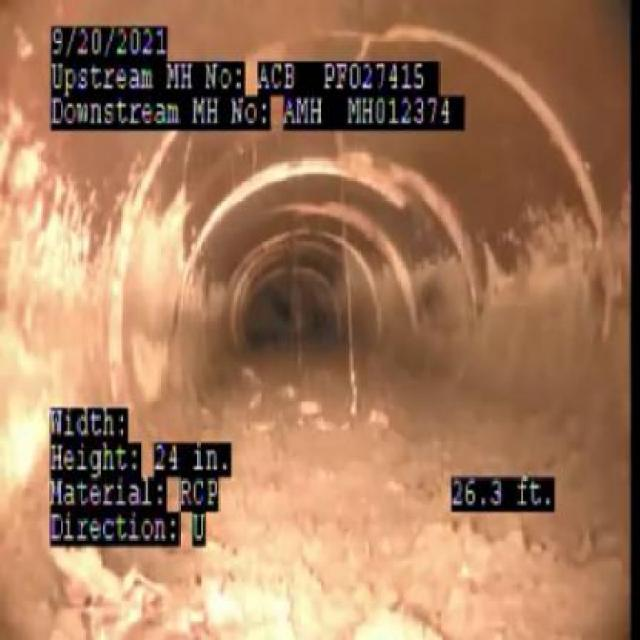Buckling: (272, 138, 446, 212)
Joint offset: (469, 25, 606, 223)
